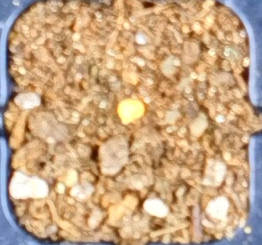pepper seed: (43, 34, 190, 159)
